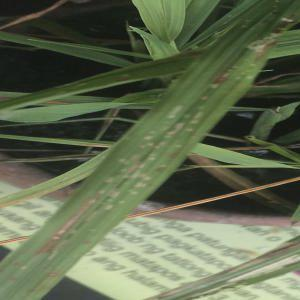1 RiceBlast: (24, 185, 99, 260)
